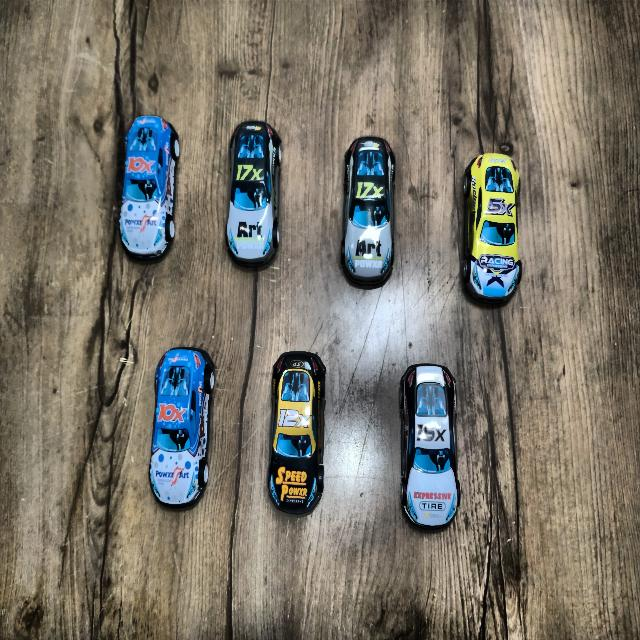Car: (145, 343, 213, 520), (400, 364, 460, 529), (268, 352, 325, 514), (463, 154, 521, 304), (119, 116, 179, 260), (341, 137, 395, 286), (226, 122, 281, 267)
